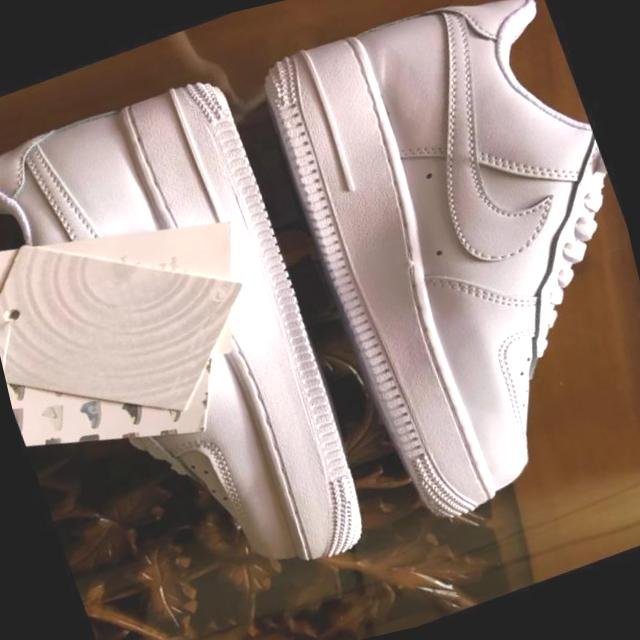nike_fake_airforce: (238, 0, 640, 545)
